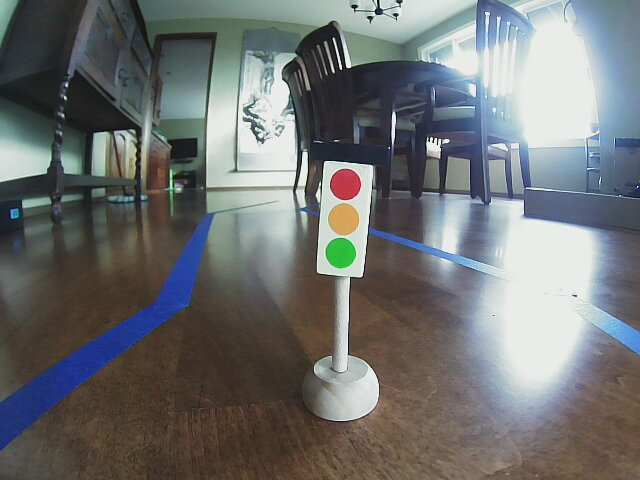TrafficLight: (312, 146, 372, 277)
